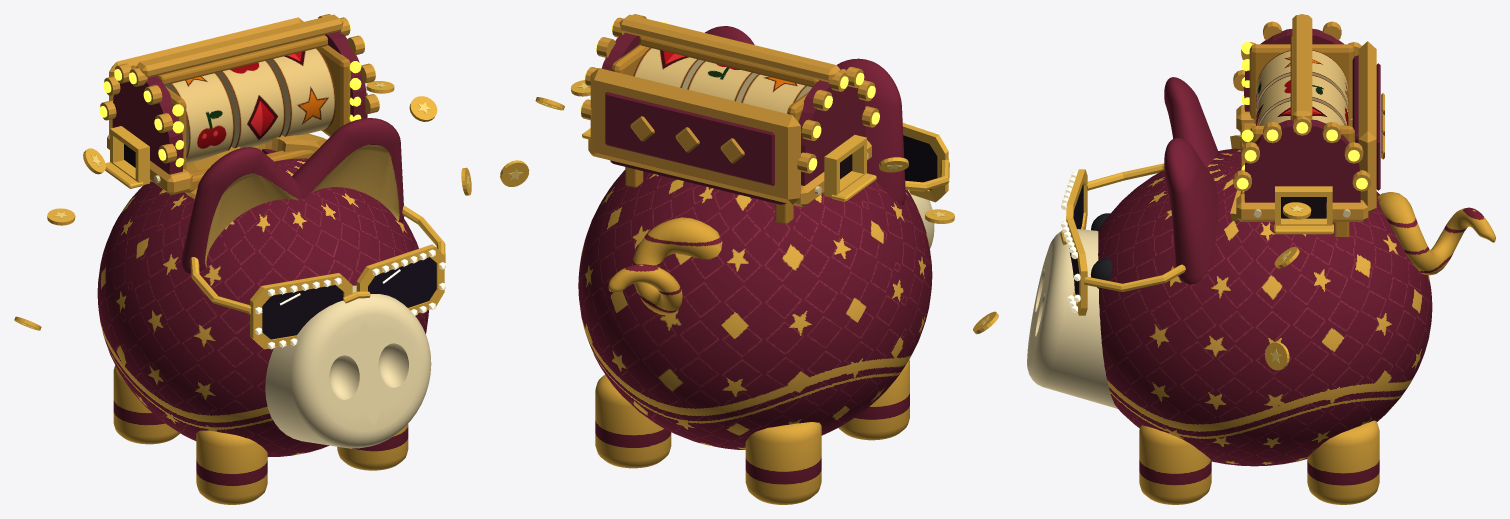
The model's file is jackpot-jackpot-v3-complete.fbx.
3 views of the same model, side by side, from view 1: azimuth 30°, elevation 25°; view 2: azimuth 150°, elevation 25°; view 3: azimuth 270°, elevation 25° (orthographic). The views are drawn at different scales.
Parts seen in each view (by area): view 1: Body, Snout, Ears, Legs, SymbolReel_2, SymbolReel_1, SymbolReel_0, JackpotCrestRail, JackpotArchCase_-1, JackpotShadesLens_-1, JackpotShadesLens_1, UpperRail (+14 smaller); view 2: Body, Legs, JackpotBackShield, JackpotBackEnamel, Tail, Ears, JackpotCrestRail, JackpotArchCase_-1, SymbolReel_1, SymbolReel_2, JackpotPayoutChute_-1, SymbolReel_0 (+9 smaller); view 3: Body, Snout, Legs, Ears, JackpotArchCase_1, Tail, JackpotBackShield, JackpotCrestRail, ReelSide_-0.585, SymbolReel_0, SymbolReel_1, JackpotBasePlinth_1 (+13 smaller).
Boxes of the visible parts, left/top/right/bottom form: Body: left=97, top=149, right=428, bottom=456; Snout: left=265, top=285, right=431, bottom=448; Ears: left=181, top=118, right=404, bottom=273; Legs: left=113, top=365, right=408, bottom=504; SymbolReel_2: left=267, top=48, right=335, bottom=136; SymbolReel_1: left=216, top=60, right=285, bottom=148; SymbolReel_0: left=165, top=73, right=234, bottom=163; JackpotCrestRail: left=136, top=14, right=343, bottom=77; JackpotArchCase_-1: left=112, top=76, right=183, bottom=174; JackpotShadesLens_-1: left=262, top=285, right=343, bottom=339; JackpotShadesLens_1: left=368, top=257, right=436, bottom=307; UpperRail: left=157, top=35, right=327, bottom=85; Body: left=578, top=170, right=932, bottom=449; Legs: left=595, top=360, right=909, bottom=504; JackpotBackShield: left=590, top=68, right=800, bottom=204; JackpotBackEnamel: left=605, top=92, right=774, bottom=185; Tail: left=608, top=217, right=722, bottom=314; Ears: left=705, top=26, right=905, bottom=204; JackpotCrestRail: left=619, top=14, right=840, bottom=82; JackpotArchCase_-1: left=798, top=80, right=865, bottom=185; SymbolReel_1: left=687, top=61, right=757, bottom=102; SymbolReel_2: left=633, top=47, right=703, bottom=89; JackpotPayoutChute_-1: left=824, top=135, right=866, bottom=197; SymbolReel_0: left=741, top=74, right=811, bottom=113; Body: left=1098, top=148, right=1432, bottom=466; Snout: left=1027, top=229, right=1117, bottom=408; Legs: left=1139, top=420, right=1379, bottom=504; Ears: left=1164, top=77, right=1218, bottom=284; JackpotArchCase_1: left=1244, top=119, right=1360, bottom=202; Tail: left=1377, top=192, right=1495, bottom=275; JackpotBackShield: left=1358, top=41, right=1376, bottom=214; JackpotCrestRail: left=1292, top=15, right=1312, bottom=120; ReelSide_-0.585: left=1249, top=44, right=1354, bottom=125; SymbolReel_0: left=1256, top=50, right=1348, bottom=112; SymbolReel_1: left=1256, top=75, right=1348, bottom=125; JackpotBasePlinth_1: left=1236, top=194, right=1368, bottom=221.
Bounding box in the file's own units: 1961 × 1593 × 1708.
19 materials, 5 textured.
